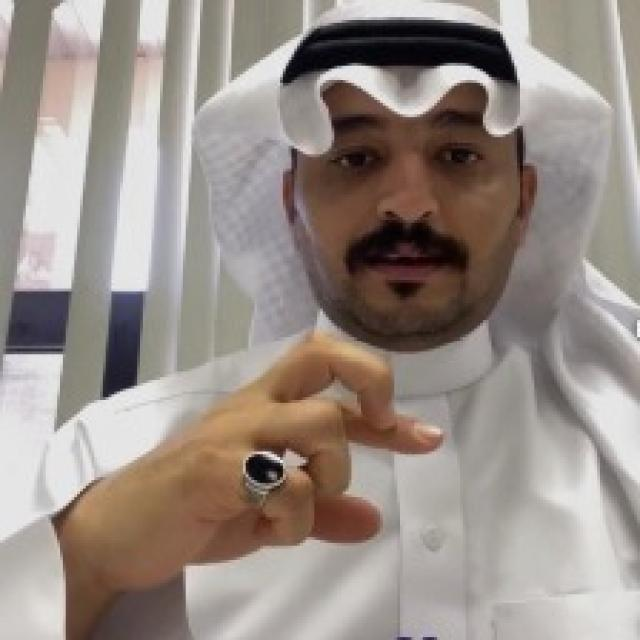sunday: (147, 326, 451, 570)
